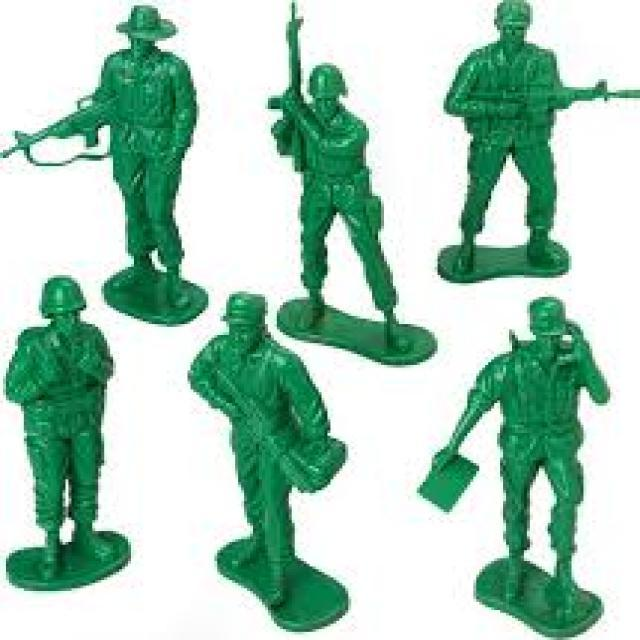hard-toy: (20, 7, 209, 324), (419, 299, 610, 603), (270, 19, 437, 365), (438, 1, 639, 284), (190, 295, 349, 632), (6, 277, 131, 590)
